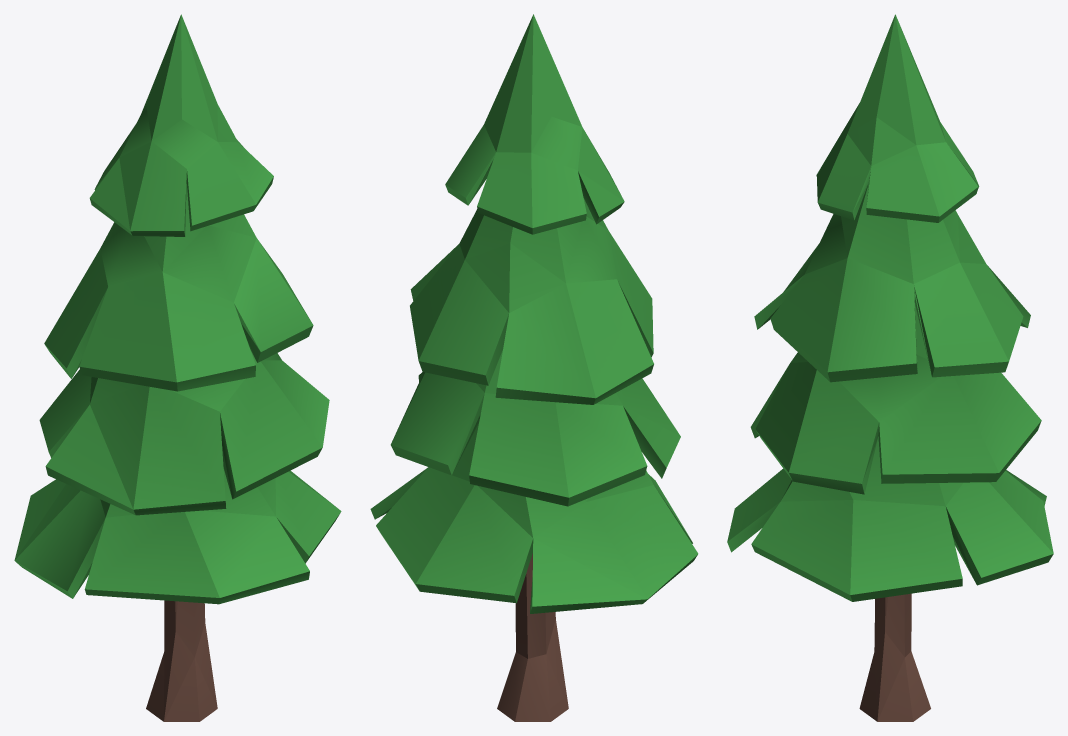
Rendered from fir_tree_001.glb.
3 views of the same model, side by side, from view 1: azimuth 30°, elevation 25°; view 2: azimuth 150°, elevation 25°; view 3: azimuth 270°, elevation 25° (orthographic).
Visible parts, largest first — view 1: fir_tree_001; view 2: fir_tree_001; view 3: fir_tree_001.
Boxes of the visible parts, <box> form: fir_tree_001: <box>14,14,341,721</box>; fir_tree_001: <box>370,14,698,721</box>; fir_tree_001: <box>727,14,1053,721</box>.
Size of the model in its own units: 2.95 by 7.05 by 3.01.
Materials: 1 (1 with a texture image).
